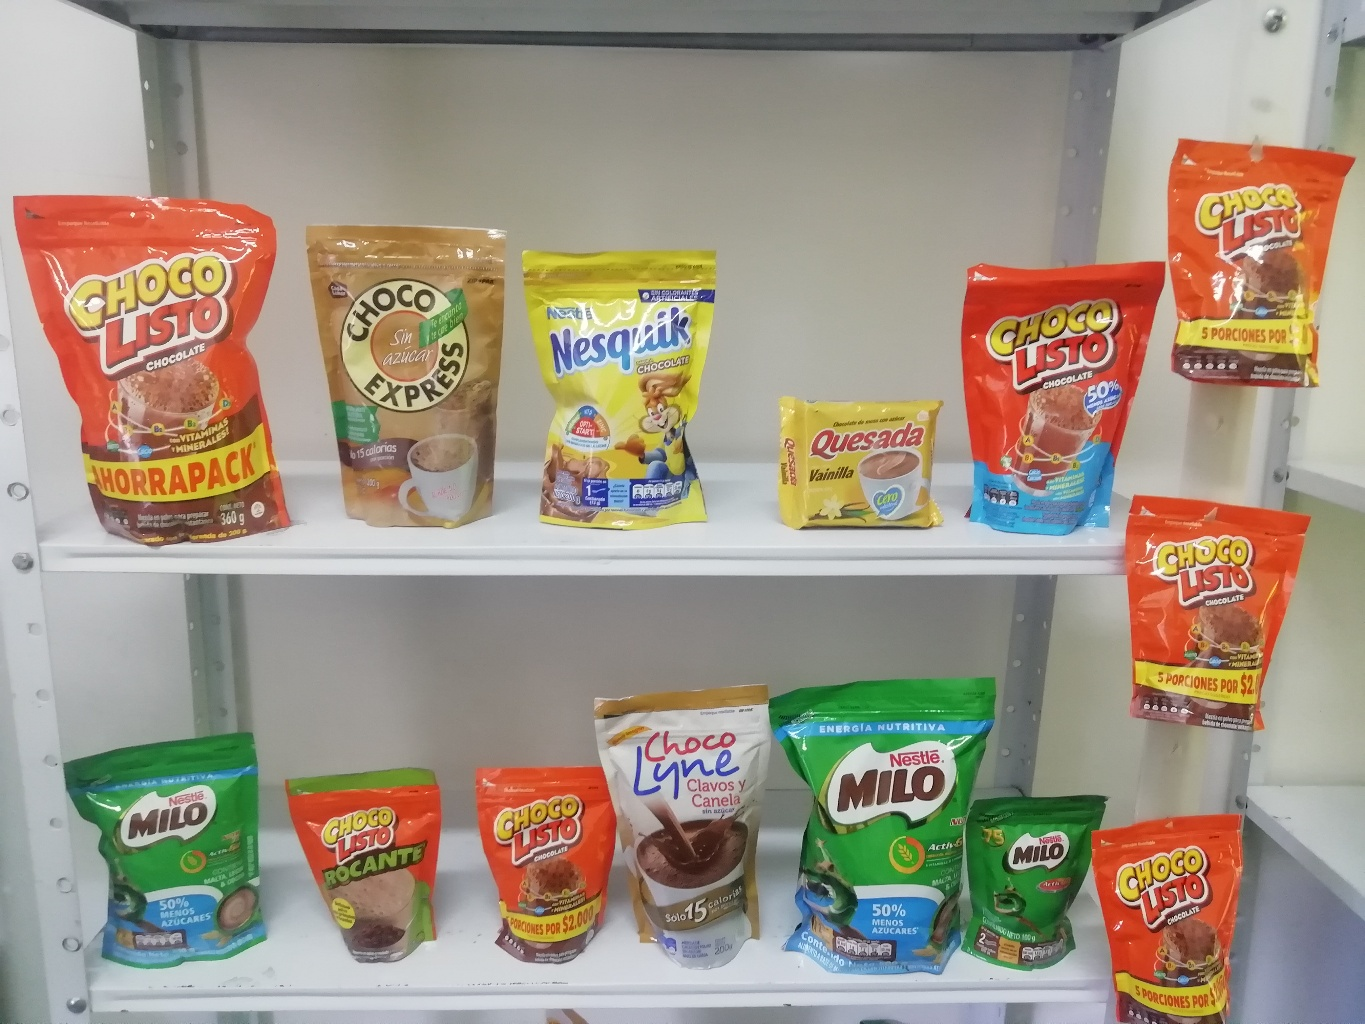COL0170102DYP10000: (280, 760, 470, 980)
COL0170103DYP36000: (15, 187, 314, 551)
COL0170104DYP20000: (958, 253, 1160, 541)
COL0170203DYP10000: (971, 793, 1104, 970)
COL0170205DYP20000: (71, 726, 265, 976)
COL0170205DYP50000: (781, 651, 998, 978)
COL0170303DYP20000: (524, 239, 730, 532)
